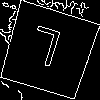L: (23, 25, 63, 77)
